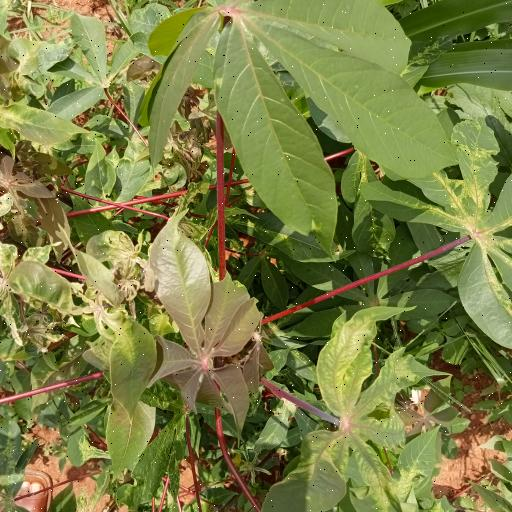Cassava_Healthy: (150, 0, 453, 232)
